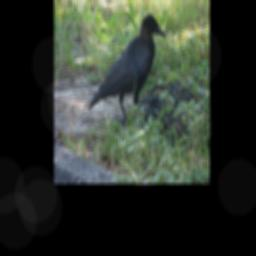Crow: (83, 13, 166, 125)
